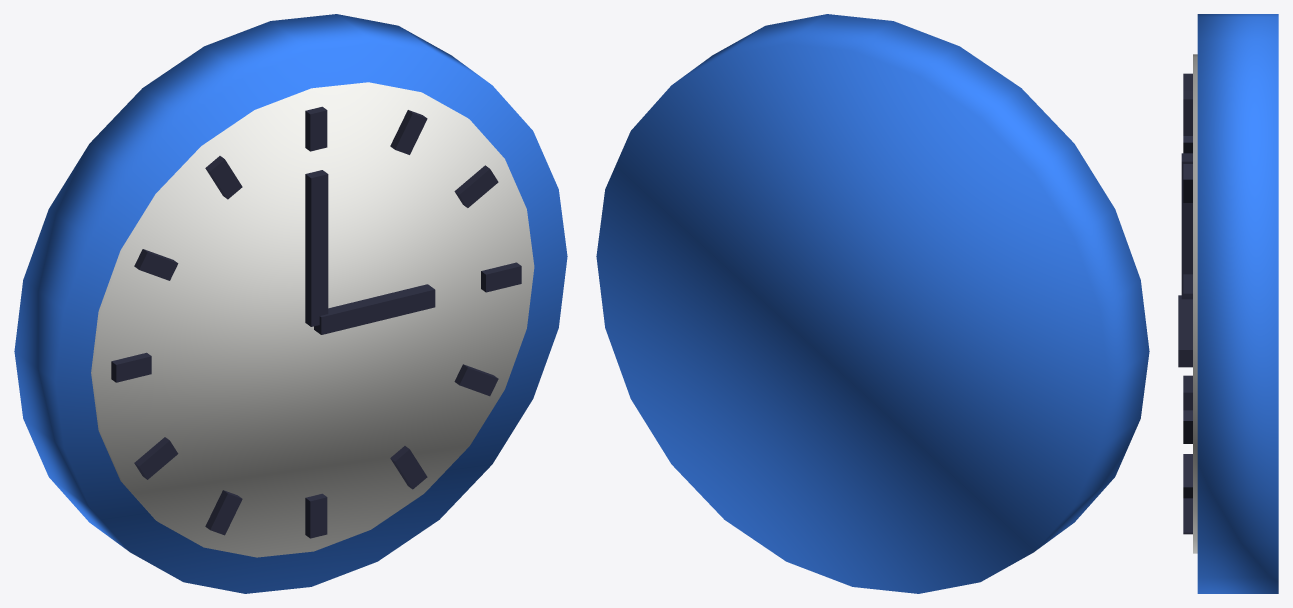
File: wall_clock.glb
3 renders of one model, left to right at view 1: azimuth 30°, elevation 25°; view 2: azimuth 150°, elevation 25°; view 3: azimuth 270°, elevation 25°, orthographic.
Parts seen in each view (by area): view 1: wall_clock; view 2: wall_clock; view 3: wall_clock.
Boxes of the visible parts, x1=… form: wall_clock: x1=14, y1=14, x2=567, y2=593; wall_clock: x1=596, y1=14, x2=1149, y2=593; wall_clock: x1=1178, y1=14, x2=1278, y2=593.
Size of the model in its own units: 0.36 by 0.36 by 0.062.
